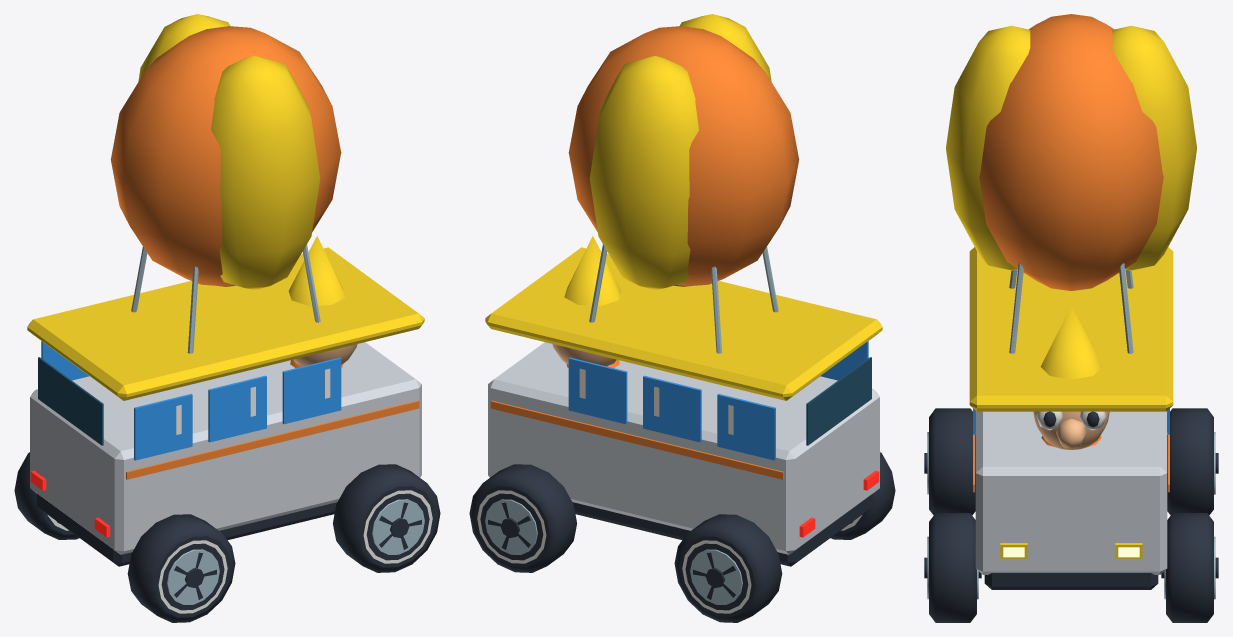
File: kart_3.glb
The picture shows the model from 3 angles, left to right: view 1: azimuth 30°, elevation 25°; view 2: azimuth 150°, elevation 25°; view 3: azimuth 270°, elevation 25°; orthographic projection. The views are drawn at different scales.
Parts seen in each view (by area): view 1: detail_Lemon, Bus body, detail_Orange, detail_Electric blue, wheel_fr, wheel_rr, Rear window, detail_Rubber, wheel_rl, detail_Chrome, detail_Peach; view 2: detail_Lemon, Bus body, detail_Orange, detail_Electric blue, wheel_fl, wheel_rl, Rear window, detail_Rubber, wheel_rr, detail_Chrome, detail_Peach; view 3: detail_Lemon, detail_Orange, Bus body, wheel_fl, wheel_fr, wheel_rl, wheel_rr, detail_Rubber, detail_Peach, detail_Chrome, detail_Ivory, detail_Warm headlight lens.
Boxes of the visible parts, x1,y1,x2,y2 form: detail_Lemon: [27, 14, 424, 400]; Bus body: [30, 342, 421, 554]; detail_Orange: [110, 26, 419, 479]; detail_Electric blue: [41, 341, 341, 460]; wheel_fr: [333, 464, 440, 572]; wheel_rr: [127, 514, 235, 622]; Rear window: [38, 357, 103, 445]; detail_Rubber: [37, 493, 337, 566]; wheel_rl: [14, 452, 79, 539]; detail_Chrome: [131, 244, 320, 353]; detail_Peach: [293, 344, 357, 366]; detail_Lemon: [485, 14, 882, 400]; Bus body: [488, 342, 879, 554]; detail_Orange: [490, 26, 799, 479]; detail_Electric blue: [568, 341, 868, 460]; wheel_fl: [469, 464, 576, 572]; wheel_rl: [674, 514, 782, 622]; Rear window: [806, 357, 871, 445]; detail_Rubber: [572, 493, 872, 566]; wheel_rr: [830, 452, 895, 539]; detail_Chrome: [589, 244, 778, 353]; detail_Peach: [552, 344, 616, 366]; detail_Lemon: [946, 25, 1196, 558]; detail_Orange: [973, 14, 1169, 492]; Bus body: [975, 411, 1167, 574]; wheel_fl: [1161, 513, 1218, 622]; wheel_fr: [924, 513, 981, 622]; wheel_rl: [1167, 408, 1218, 515]; wheel_rr: [924, 408, 975, 515]; detail_Rubber: [984, 411, 1158, 589]; detail_Peach: [1033, 411, 1109, 449]; detail_Chrome: [1009, 263, 1133, 353]; detail_Ivory: [1036, 411, 1106, 430]; detail_Warm headlight lens: [1003, 547, 1139, 557].
Size of the model in its own units: 3.19 by 4.98 by 2.46.
